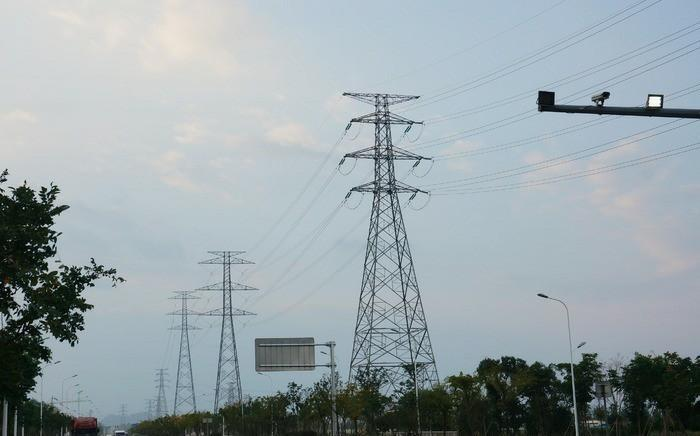power_tower: (333, 85, 445, 409), (199, 249, 263, 415), (169, 287, 207, 418), (153, 366, 175, 421)
